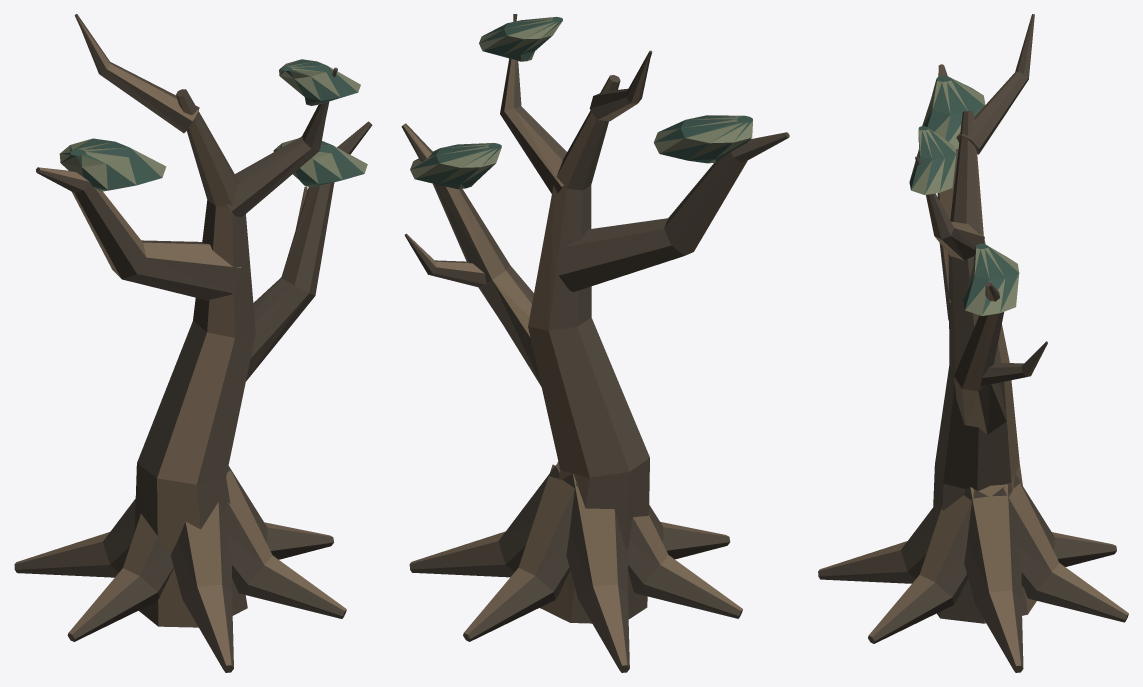
File: AE_DarkForest_AncientOak.fbx
The picture shows the model from 3 angles, left to right: view 1: azimuth 30°, elevation 25°; view 2: azimuth 150°, elevation 25°; view 3: azimuth 270°, elevation 25°; orthographic projection. The views are drawn at different scales.
Parts seen in each view (by area): view 1: AE_DarkForest_AncientOak; view 2: AE_DarkForest_AncientOak; view 3: AE_DarkForest_AncientOak.
Part boxes in pixels (left/top/right/bottom): AE_DarkForest_AncientOak: left=14, top=14, right=372, bottom=672; AE_DarkForest_AncientOak: left=401, top=14, right=789, bottom=672; AE_DarkForest_AncientOak: left=818, top=14, right=1128, bottom=672.
Bounding box in the file's own units: 1.73 × 2.73 × 1.38.
